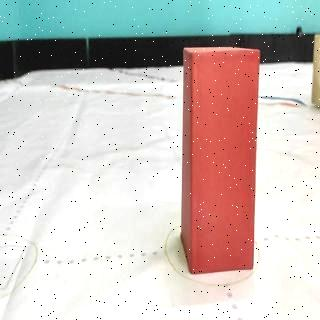redbox: (181, 46, 259, 276)
